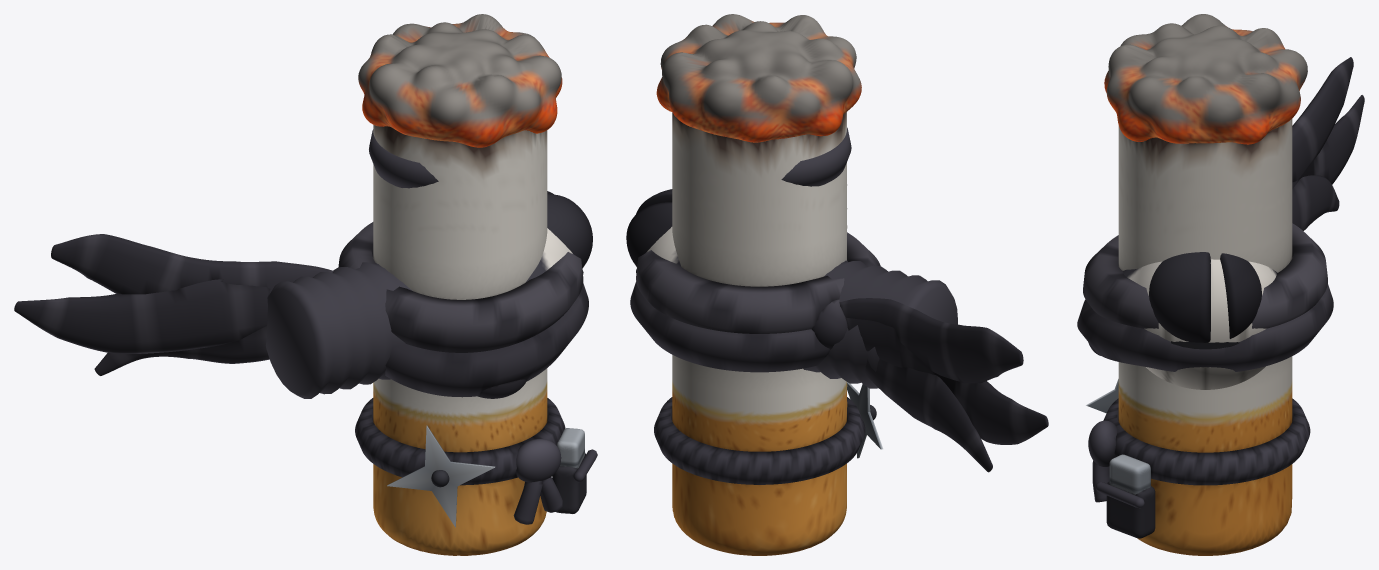
Rendered from smoke.glb.
3 renders of one model, left to right at view 1: azimuth 30°, elevation 25°; view 2: azimuth 150°, elevation 25°; view 3: azimuth 270°, elevation 25°, orthographic.
Parts seen in each view (by area): view 1: body, hand, foot; view 2: body, hand, foot; view 3: body, foot, hand.
Boxes of the visible parts, x1,y1,x2,y2 form: body: [14, 14, 597, 555]; hand: [265, 228, 572, 398]; foot: [369, 129, 592, 274]; body: [630, 14, 1048, 555]; hand: [646, 227, 957, 388]; foot: [626, 127, 851, 272]; body: [1077, 14, 1364, 555]; foot: [1149, 252, 1261, 349]; hand: [1123, 259, 1277, 389].
Bounding box in the file's own units: 150 × 141 × 76.23.
